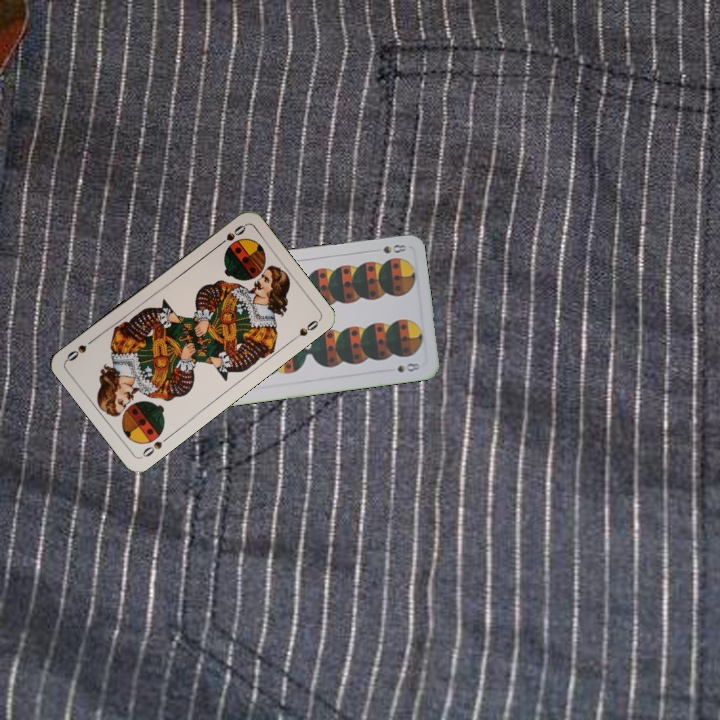S8: (368, 240, 409, 256)
SO: (213, 221, 248, 250), (137, 432, 172, 460)
